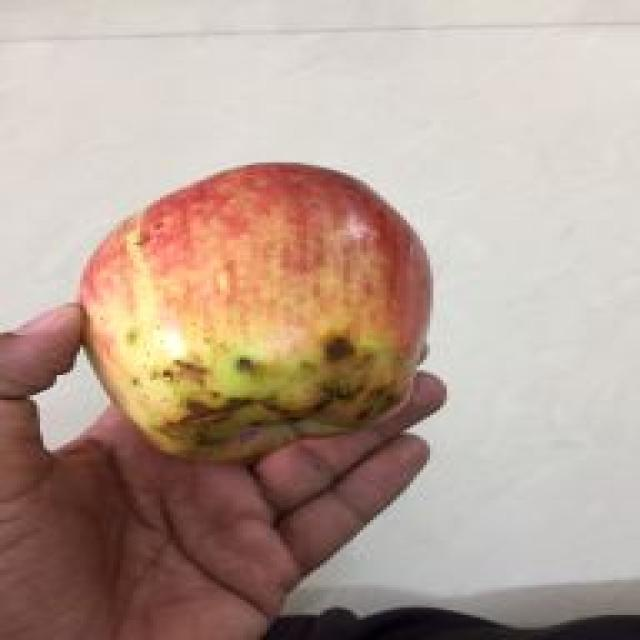Bad_Apple: (82, 164, 432, 459)
